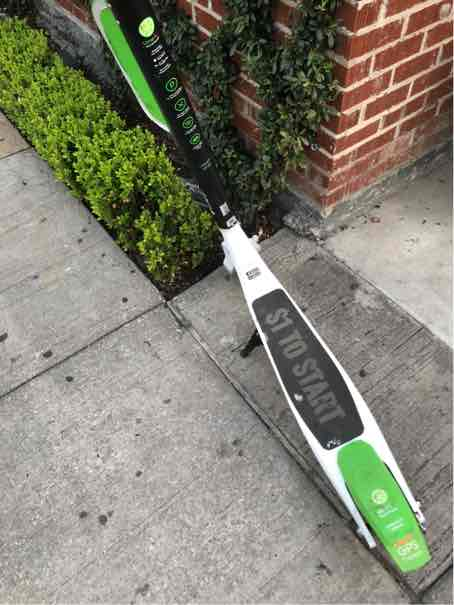scooter: (7, 10, 439, 605)
